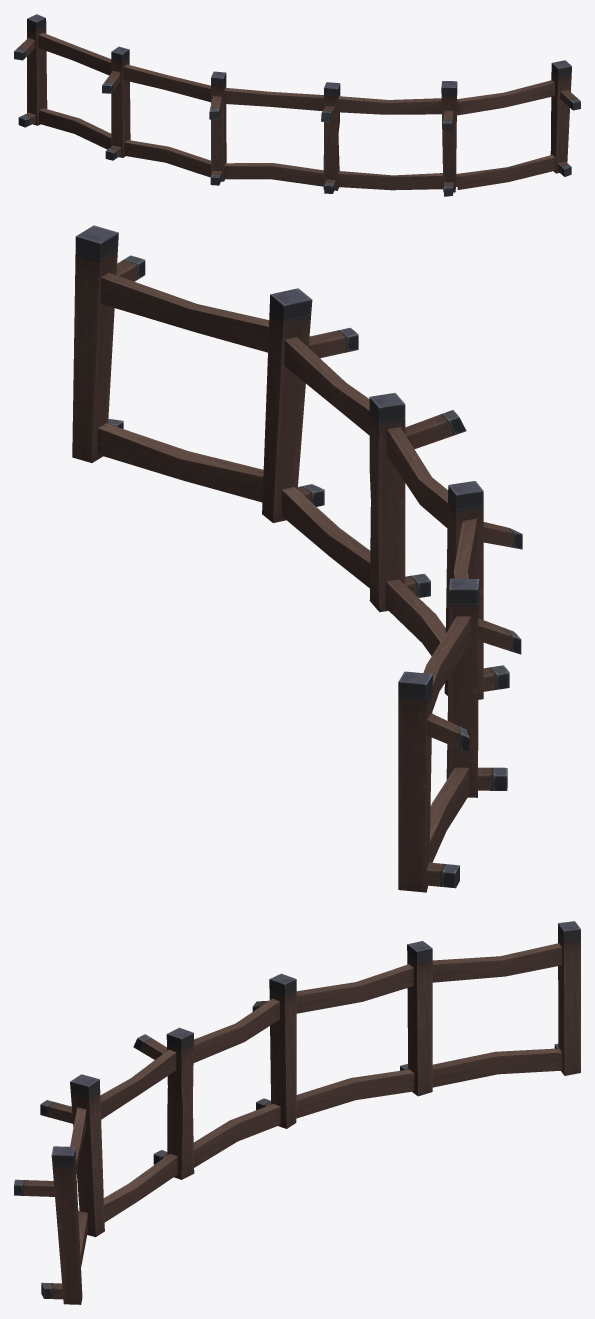
The model's file is scene_malujiakuangdao_hulan01.FBX.
The picture shows the model from 3 angles, top to bottom: view 1: azimuth 30°, elevation 25°; view 2: azimuth 150°, elevation 25°; view 3: azimuth 270°, elevation 25°; orthographic projection. The views are drawn at different scales.
Visible parts, largest first — view 1: scene_malujiakuangdao_hulan01; view 2: scene_malujiakuangdao_hulan01; view 3: scene_malujiakuangdao_hulan01.
Part boxes in pixels (<box>): scene_malujiakuangdao_hulan01: <box>14,14,580,196</box>; scene_malujiakuangdao_hulan01: <box>72,225,522,892</box>; scene_malujiakuangdao_hulan01: <box>14,921,580,1304</box>.
Bounding box in the file's own units: 735 × 203 × 698.
